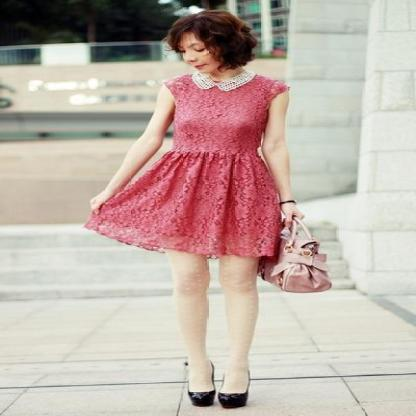bag: (250, 213, 356, 292)
dress: (78, 67, 289, 272)
shoe: (188, 390, 246, 408)
